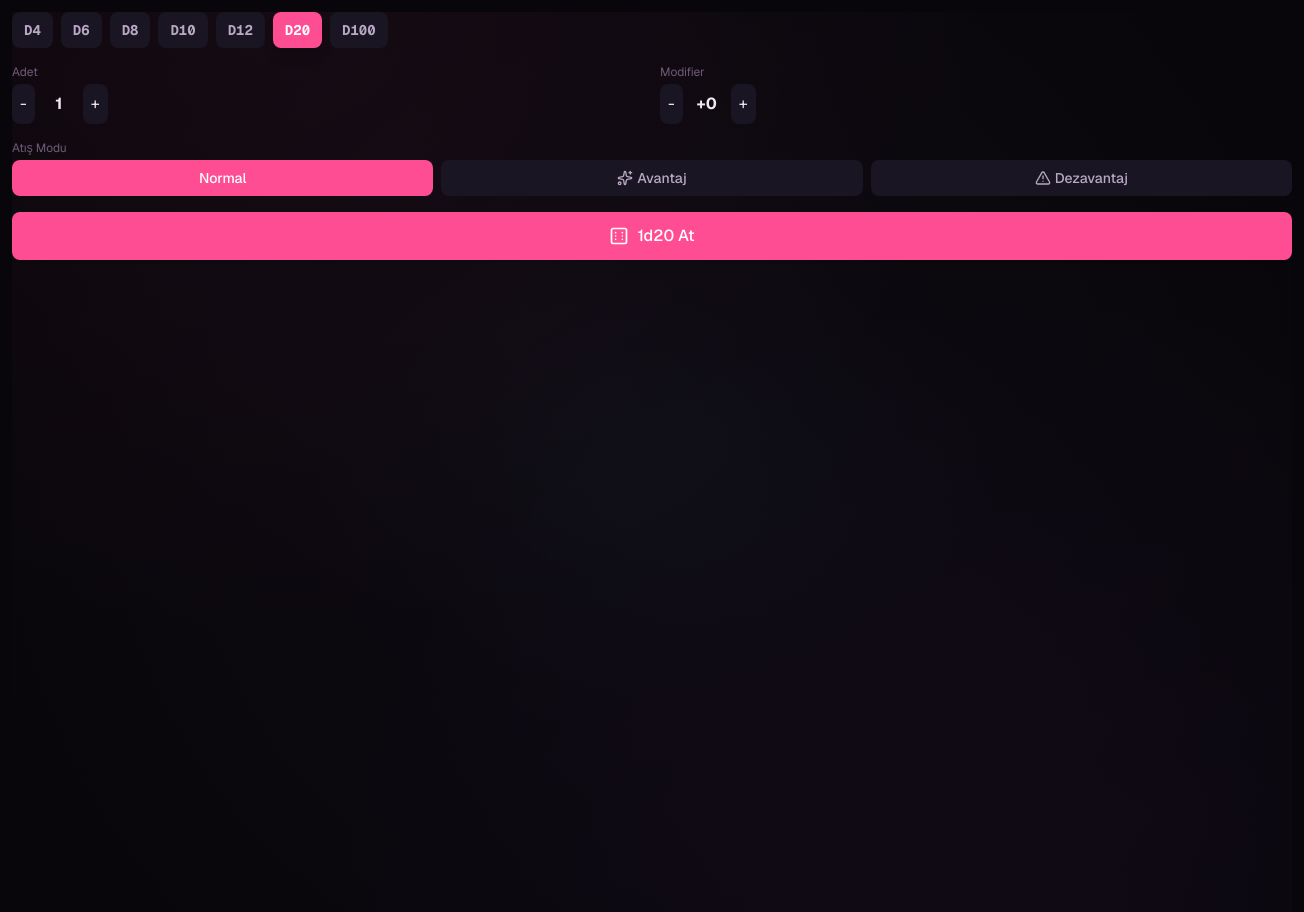
Test case: DiceRoller › updates dice type when clicking a dice button
Click the button "D6". click: (81, 30)
box: 61,12 -> 102,48
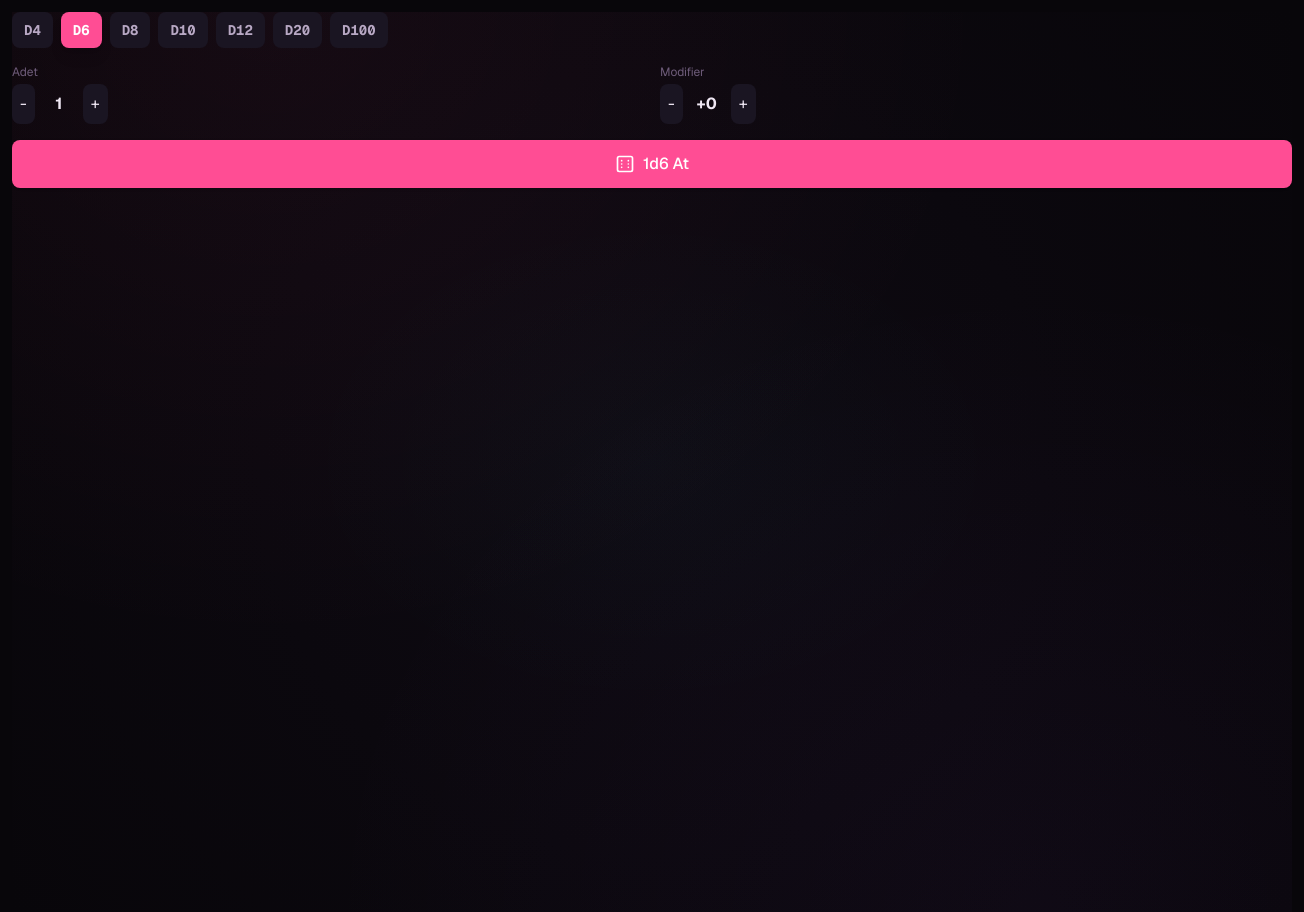
Result: the button "1d6 At" is shown at 12,140 -> 1292,188
